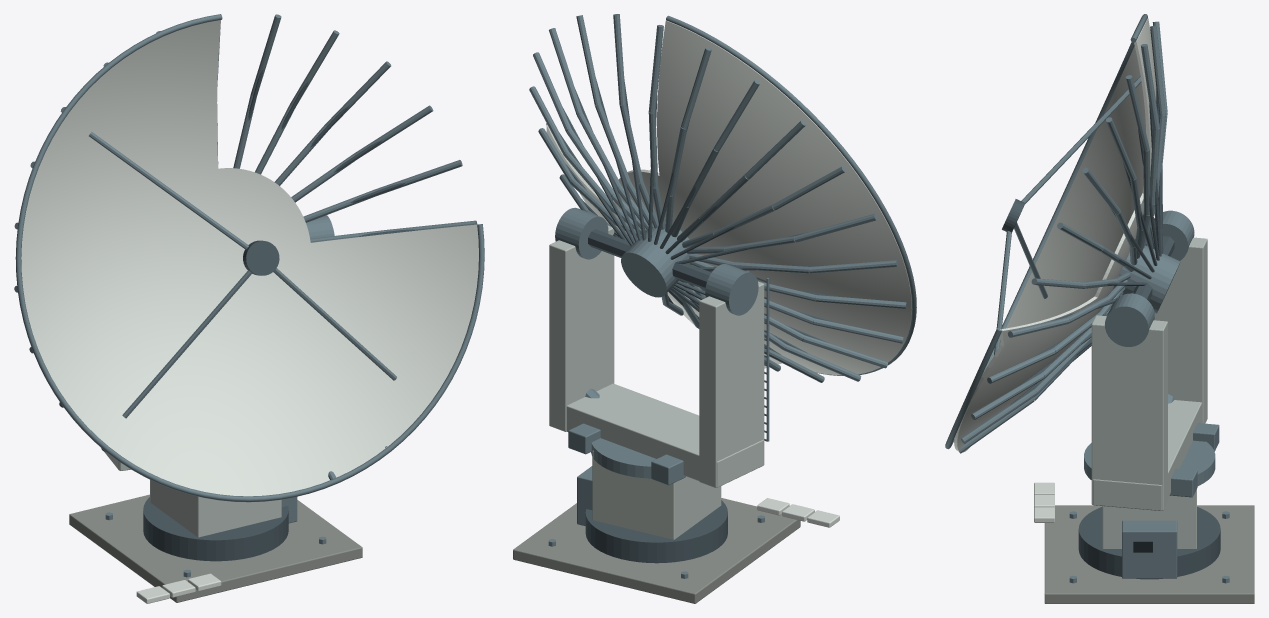
File: skyward_high_d2.glb
3 renders of one model, left to right at view 1: azimuth 30°, elevation 25°; view 2: azimuth 150°, elevation 25°; view 3: azimuth 270°, elevation 25°, orthographic. The views are drawn at different scales.
Visible parts, largest first — view 1: REFLECTOR_SURFACE.010, Geometry_ELEVATION.010_Structural frame / blue steel, Concrete octagonal pad.010, Foundation bearing.010, Pedestal.010, Geometry_ELEVATION.010_Edge metal / graphite, Geometry_ROOT.010_Reflector / warm ceramic; view 2: REFLECTOR_SURFACE.010, Geometry_AZIMUTH.010_Ceramic armor / limestone, Geometry_ELEVATION.010_Structural frame / blue steel, Concrete octagonal pad.010, Geometry_AZIMUTH.010_Structural frame / blue steel, Geometry_ELEVATION.010_Edge metal / graphite, Pedestal.010, Foundation bearing.010, Geometry_ROOT.010_Reflector / warm ceramic, Geometry_ROOT.010_Structural frame / blue steel; view 3: Geometry_AZIMUTH.010_Ceramic armor / limestone, REFLECTOR_SURFACE.010, Geometry_ELEVATION.010_Structural frame / blue steel, Concrete octagonal pad.010, Geometry_AZIMUTH.010_Structural frame / blue steel, Foundation bearing.010, Geometry_ROOT.010_Structural frame / blue steel, Geometry_ELEVATION.010_Edge metal / graphite, Pedestal.010, Geometry_ROOT.010_Reflector / warm ceramic.
Boxes of the visible parts, x1,y1,x2,y2 form: REFLECTOR_SURFACE.010: (21, 20, 478, 496); Geometry_ELEVATION.010_Structural frame / blue steel: (14, 14, 484, 502); Concrete octagonal pad.010: (69, 494, 362, 602); Foundation bearing.010: (143, 497, 288, 561); Pedestal.010: (150, 480, 281, 537); Geometry_ELEVATION.010_Edge metal / graphite: (243, 69, 417, 275); Geometry_ROOT.010_Reflector / warm ceramic: (136, 573, 221, 603); REFLECTOR_SURFACE.010: (546, 20, 912, 375); Geometry_AZIMUTH.010_Ceramic armor / limestone: (549, 225, 764, 487); Geometry_ELEVATION.010_Structural frame / blue steel: (529, 14, 916, 382); Concrete octagonal pad.010: (513, 498, 800, 603); Geometry_AZIMUTH.010_Structural frame / blue steel: (555, 207, 769, 485); Geometry_ELEVATION.010_Edge metal / graphite: (559, 77, 842, 354); Pedestal.010: (592, 450, 721, 539); Foundation bearing.010: (585, 500, 727, 563); Geometry_ROOT.010_Reflector / warm ceramic: (757, 498, 839, 527); Geometry_ROOT.010_Structural frame / blue steel: (548, 466, 764, 578); Geometry_AZIMUTH.010_Ceramic armor / limestone: (1091, 237, 1207, 510); REFLECTOR_SURFACE.010: (954, 18, 1156, 452); Geometry_ELEVATION.010_Structural frame / blue steel: (945, 14, 1180, 453); Concrete octagonal pad.010: (1044, 505, 1254, 603); Geometry_AZIMUTH.010_Structural frame / blue steel: (1084, 210, 1219, 497); Foundation bearing.010: (1078, 507, 1220, 579); Geometry_ROOT.010_Structural frame / blue steel: (1069, 511, 1229, 583); Geometry_ELEVATION.010_Edge metal / graphite: (1002, 88, 1174, 404); Pedestal.010: (1102, 489, 1196, 548); Geometry_ROOT.010_Reflector / warm ceramic: (1034, 482, 1054, 522).
Bounding box in the file's own units: 17.94 × 21.86 × 11.78.
